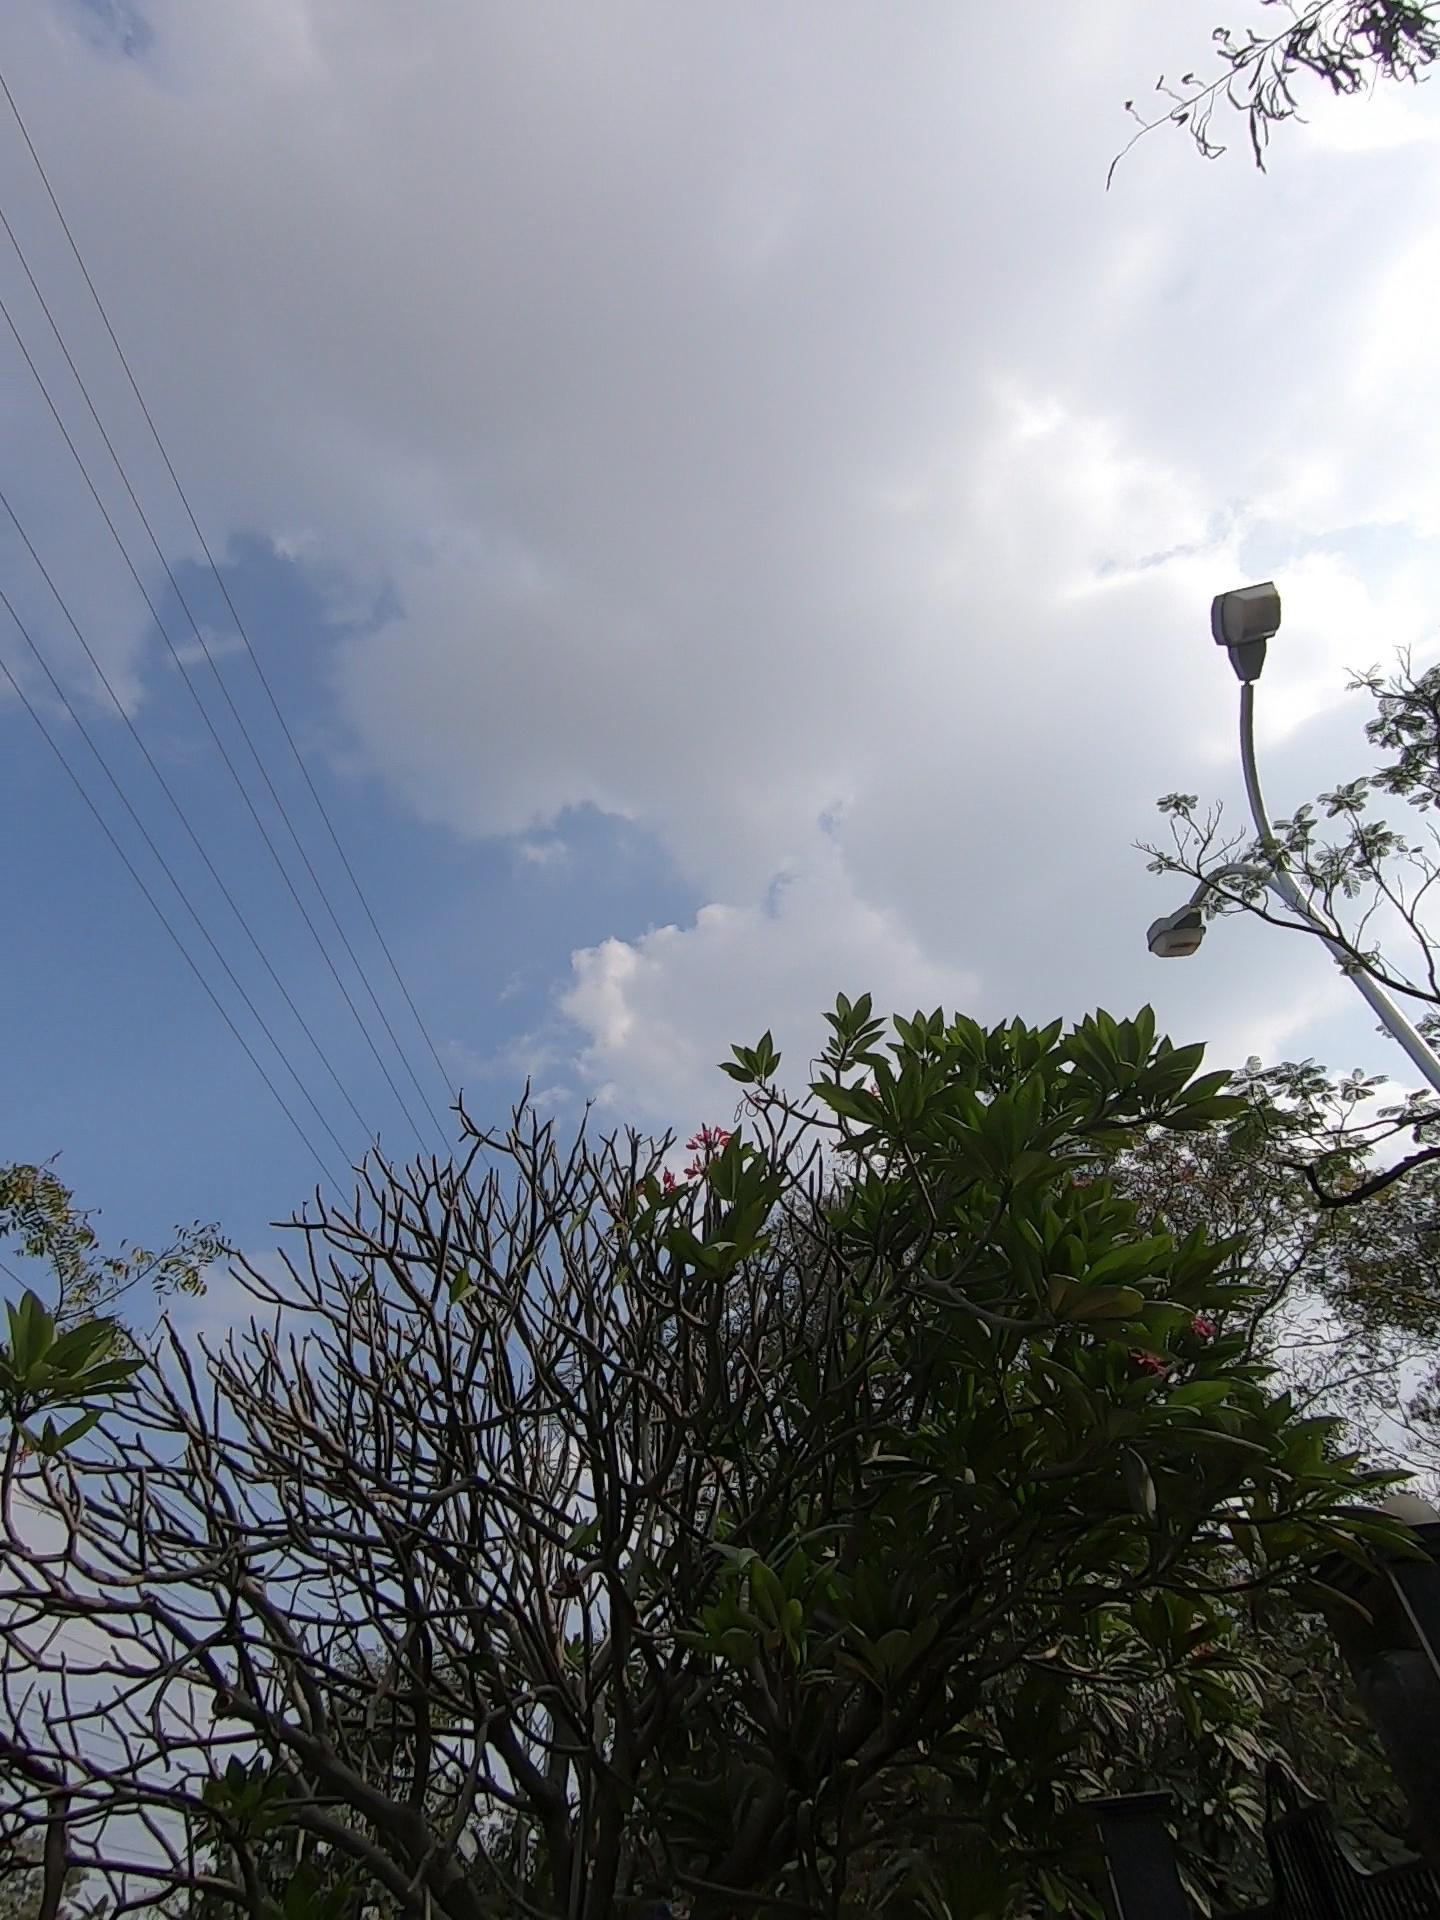off: (1054, 491, 1336, 1060)
